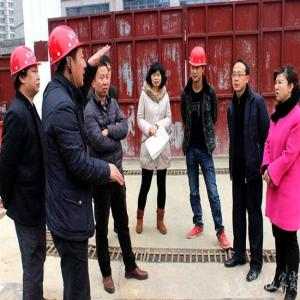none: (272, 63, 297, 110), (230, 58, 252, 99), (91, 60, 112, 100), (147, 60, 166, 94)
red: (48, 21, 88, 90), (9, 41, 44, 102), (188, 45, 209, 86)
